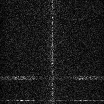lte: (1, 74, 103, 80)
wifi: (1, 75, 104, 80)
